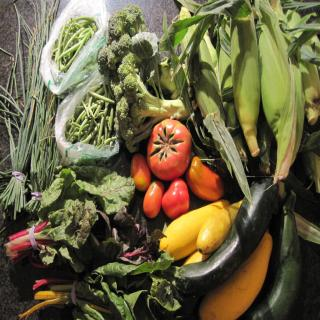tomato: (146, 119, 190, 181), (186, 155, 224, 201), (160, 179, 190, 221), (143, 180, 165, 218), (131, 154, 150, 190)
